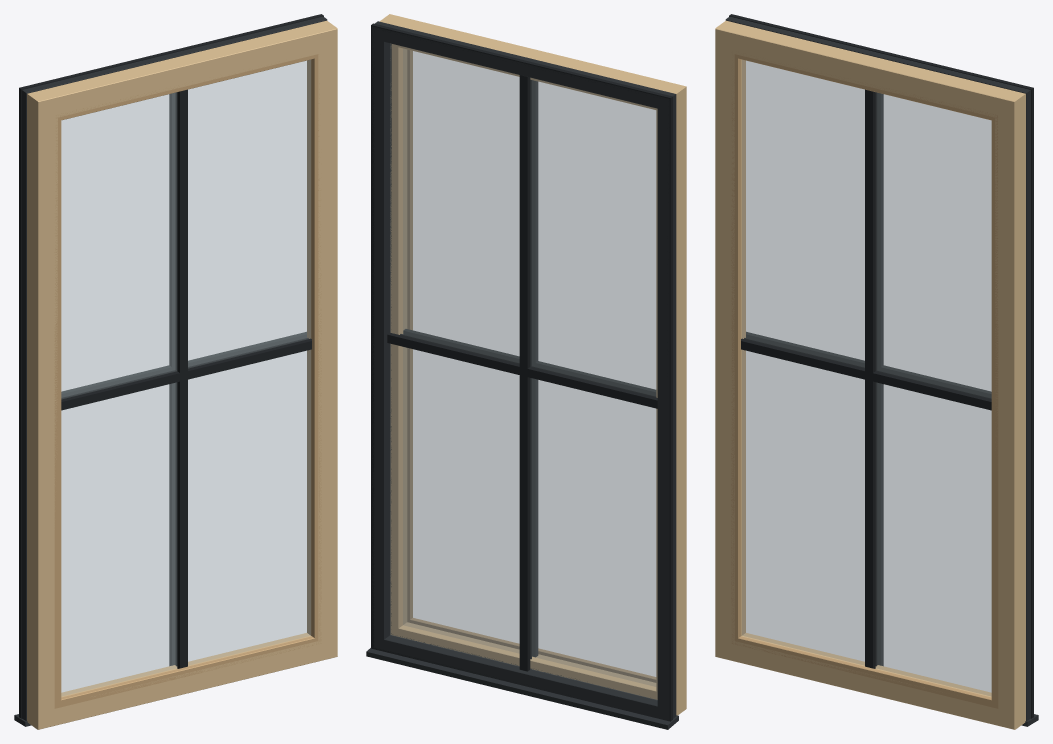
The model's file is fixed-lattice.glb.
3 renders of one model, left to right at view 1: azimuth 30°, elevation 25°; view 2: azimuth 150°, elevation 25°; view 3: azimuth 330°, elevation 25°, orthographic.
Parts seen in each view (by area): view 1: glass_igu, frame_liner_int, frame_stop_int, grid_bar_v_int, frame_clad_ext, grid_bar_v_ext, frame_clad_nose, grid_bar_h_int, grid_spacer_v, grid_bar_h_ext, grid_spacer_h; view 2: glass_igu, frame_clad_ext, frame_liner_int, grid_bar_v_ext, frame_clad_nose, frame_stop_int, grid_bar_v_int, grid_bar_h_ext, sill_nose, grid_bar_h_int, grid_spacer_v, grid_spacer_h; view 3: glass_igu, frame_liner_int, frame_stop_int, grid_bar_v_int, frame_clad_ext, grid_bar_v_ext, frame_clad_nose, grid_bar_h_int, grid_spacer_v, grid_bar_h_ext, grid_spacer_h.
Boxes of the visible parts, box(x1,y1,x2,y2) form: glass_igu: box(61, 60, 310, 695); frame_liner_int: box(27, 20, 337, 729); frame_stop_int: box(54, 54, 321, 708); grid_bar_v_int: box(177, 89, 187, 668); frame_clad_ext: box(22, 16, 327, 720); grid_bar_v_ext: box(169, 93, 175, 665); frame_clad_nose: box(19, 14, 323, 718); grid_bar_h_int: box(61, 338, 311, 410); grid_spacer_v: box(175, 92, 177, 666); grid_bar_h_ext: box(61, 332, 306, 397); grid_spacer_h: box(61, 338, 308, 399); glass_igu: box(390, 43, 657, 699); frame_clad_ext: box(372, 21, 676, 721); frame_liner_int: box(379, 14, 686, 715); grid_bar_v_ext: box(519, 75, 530, 671); frame_clad_nose: box(371, 23, 672, 721); frame_stop_int: box(407, 50, 656, 682); grid_bar_v_int: box(532, 80, 538, 657); grid_bar_h_ext: box(387, 332, 657, 408); sill_nose: box(366, 648, 678, 729); grid_bar_h_int: box(403, 329, 656, 395); grid_spacer_v: box(530, 79, 531, 659); grid_spacer_h: box(400, 334, 656, 397); glass_igu: box(742, 60, 991, 695); frame_liner_int: box(715, 20, 1025, 729); frame_stop_int: box(731, 53, 998, 708); grid_bar_v_int: box(865, 89, 875, 668); frame_clad_ext: box(725, 16, 1030, 720); grid_bar_v_ext: box(877, 93, 883, 665); frame_clad_nose: box(729, 14, 1033, 718); grid_bar_h_int: box(741, 338, 991, 410); grid_spacer_v: box(875, 92, 877, 666); grid_bar_h_ext: box(746, 332, 991, 397); grid_spacer_h: box(744, 338, 991, 399).
Bounding box in the file's own units: 0.912 × 1.82 × 0.1124.
